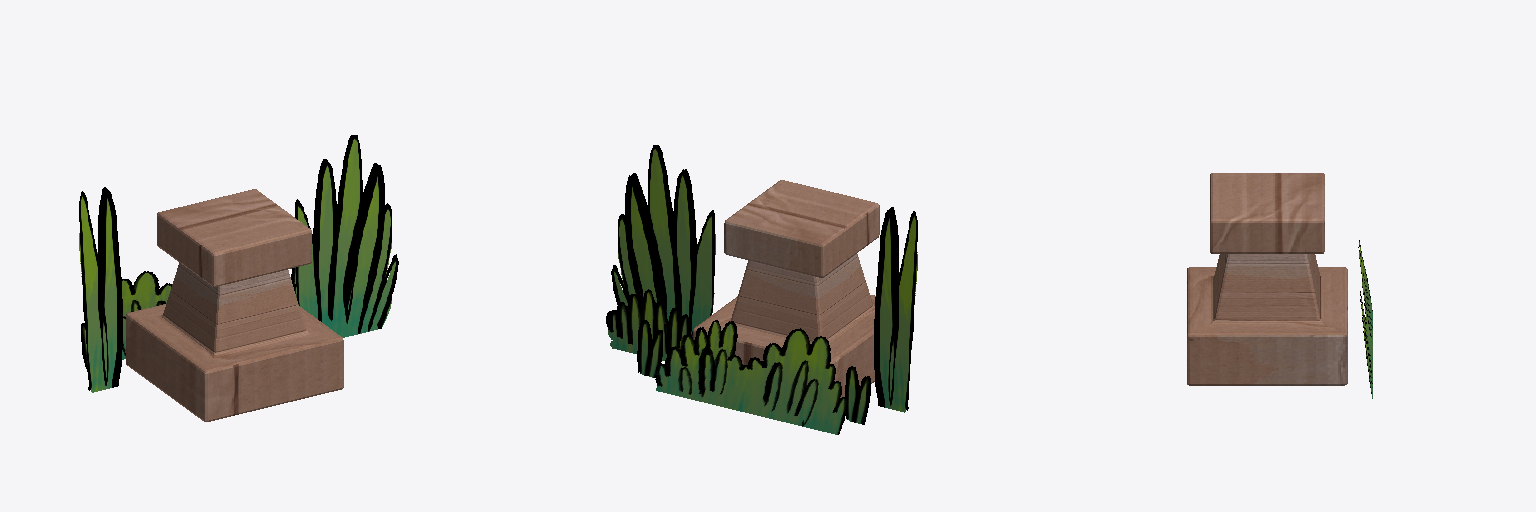
The picture shows the model from 3 angles: view 1: azimuth 30°, elevation 25°; view 2: azimuth 150°, elevation 25°; view 3: azimuth 270°, elevation 25°; orthographic projection.
Parts seen in each view (by area): view 1: FOREST_PEDESTAL.001; view 2: FOREST_PEDESTAL.001; view 3: FOREST_PEDESTAL.001.
Boxes of the visible parts, x1,y1,x2,y2 form: FOREST_PEDESTAL.001: [79, 135, 398, 421]; FOREST_PEDESTAL.001: [606, 145, 917, 434]; FOREST_PEDESTAL.001: [1187, 173, 1372, 398].
Size of the model in its own units: 2.03 by 1.34 by 0.9711.
Materials: 2 (2 with a texture image).